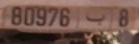0: (24, 7, 33, 26)
6: (60, 7, 70, 26)
7: (48, 7, 58, 27)
8: (118, 8, 128, 27), (12, 7, 21, 27)
9: (36, 7, 46, 27)
b: (83, 13, 107, 27)
